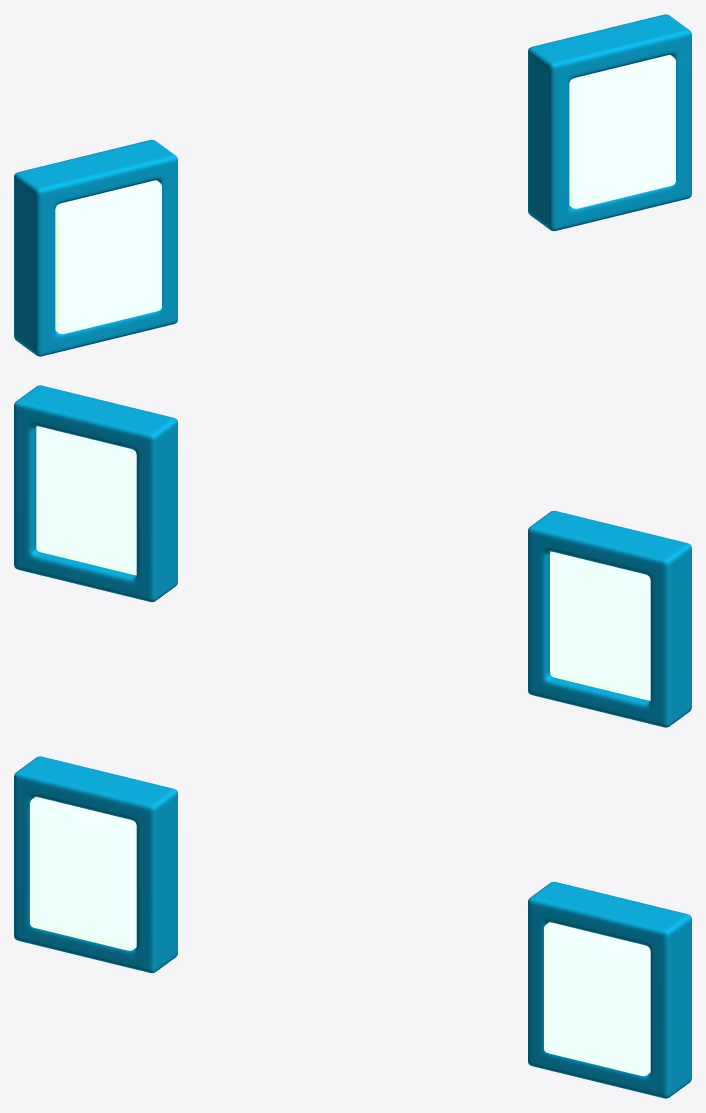
The model's file is SM_Clay_Window_02.fbx.
The picture shows the model from 3 angles, top to bottom: view 1: azimuth 30°, elevation 25°; view 2: azimuth 150°, elevation 25°; view 3: azimuth 330°, elevation 25°; orthographic projection.
Parts seen in each view (by area): view 1: SM_Clay_Window_02; view 2: SM_Clay_Window_02; view 3: SM_Clay_Window_02.
Part boxes in pixels (x1=…): SM_Clay_Window_02: x1=14, y1=14, x2=691, y2=356; SM_Clay_Window_02: x1=14, y1=385, x2=691, y2=727; SM_Clay_Window_02: x1=14, y1=756, x2=691, y2=1098.
Bounding box in the file's own units: 3.39 × 0.832 × 0.258.
